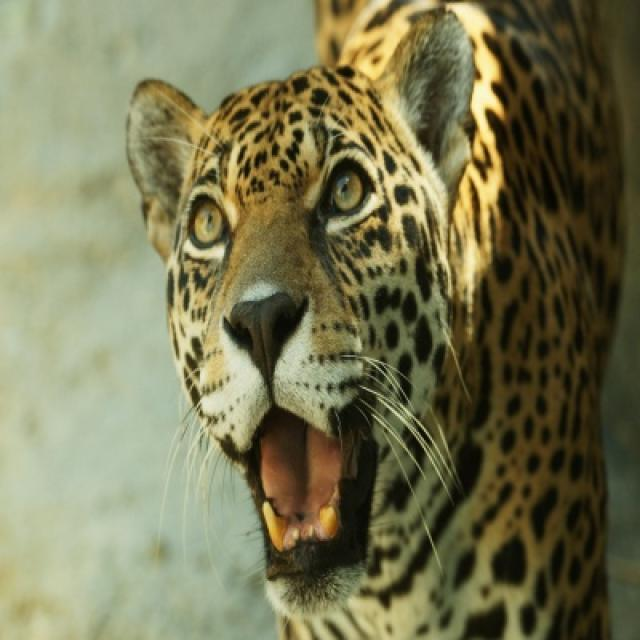Jaguar: (125, 0, 629, 638)
